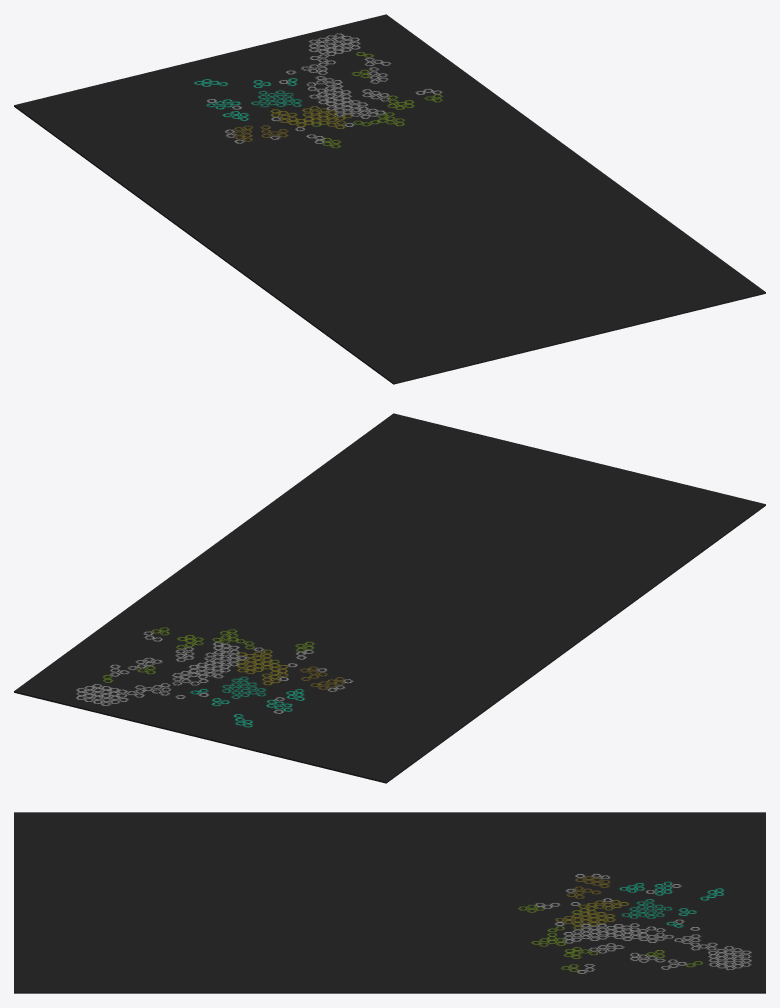
File: ChaosZooCityMapRoad.fbx
3 views of the same model, one above another, from view 1: azimuth 30°, elevation 25°; view 2: azimuth 150°, elevation 25°; view 3: azimuth 270°, elevation 25° (orthographic).
Visible parts, largest first — view 1: pCube26; view 2: pCube26; view 3: pCube26.
Part boxes in pixels (x1,y1,x2,y2): pCube26: [14, 14, 765, 384]; pCube26: [14, 413, 765, 783]; pCube26: [14, 812, 765, 993].
Size of the model in its own units: 487 by 1.95 by 860.
